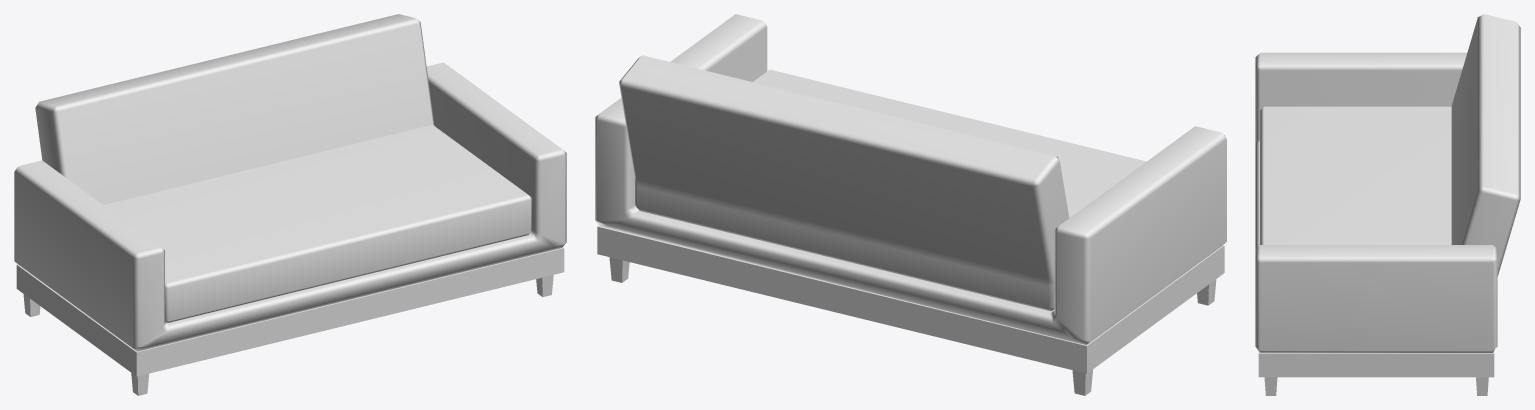
File: sofa_021.fbx
3 views of the same model, side by side, from view 1: azimuth 30°, elevation 25°; view 2: azimuth 150°, elevation 25°; view 3: azimuth 270°, elevation 25° (orthographic). The views are drawn at different scales.
Visible parts, largest first — view 1: sofa_021; view 2: sofa_021; view 3: sofa_021.
Part boxes in pixels (<box>): sofa_021: <box>14,14,566,395</box>; sofa_021: <box>595,14,1226,395</box>; sofa_021: <box>1255,14,1520,395</box>.
Size of the model in its own units: 277 by 150 by 123.
